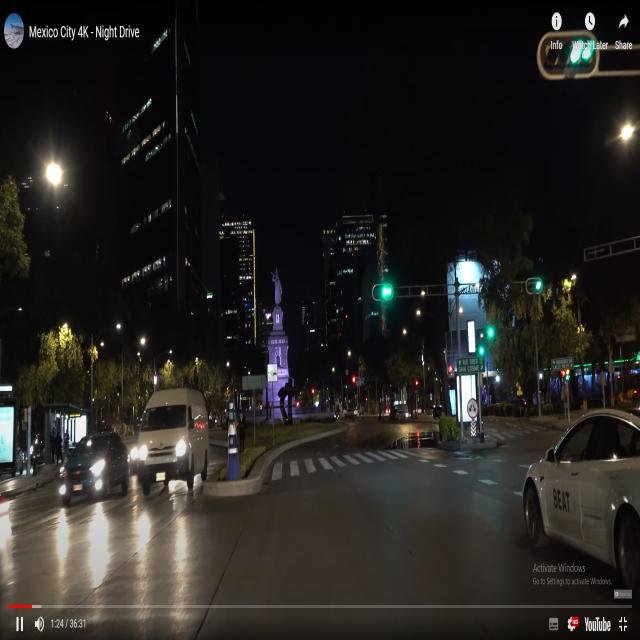headlights: (137, 432, 190, 471), (56, 456, 107, 495)
